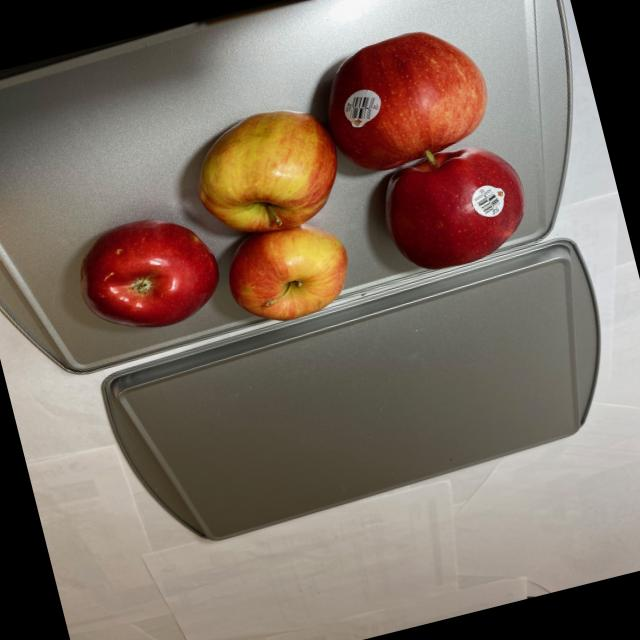apple: (36, 12, 544, 366)
